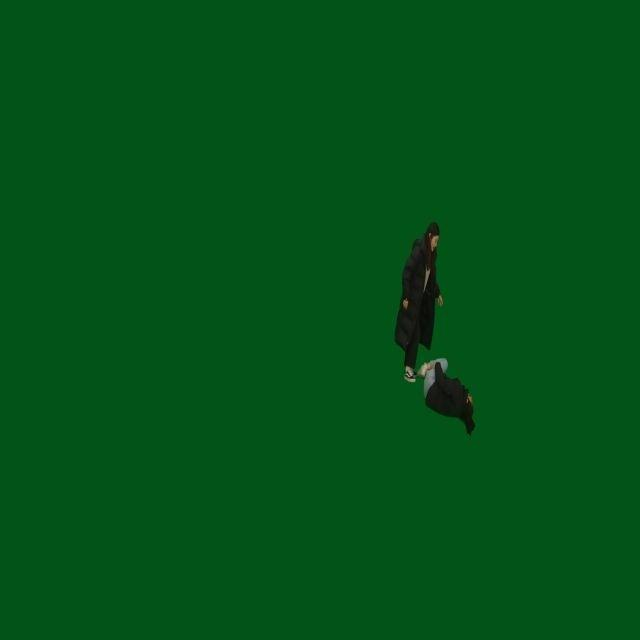fight: (392, 220, 482, 436)
